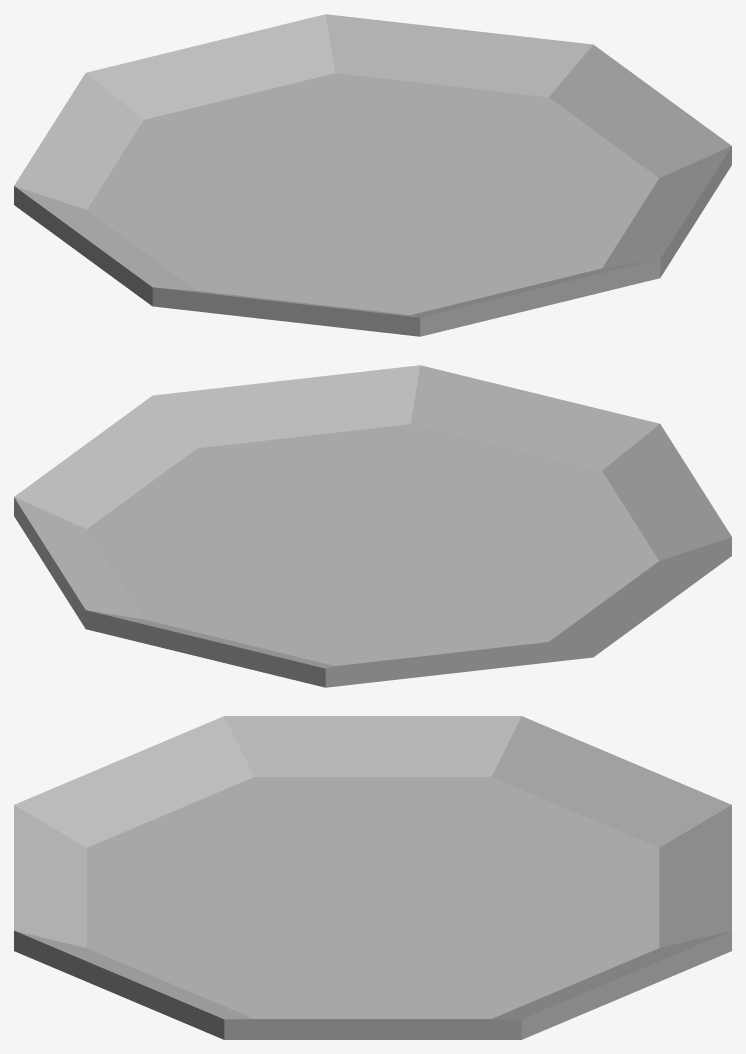
Rendered from Plate_02.fbx.
3 views of the same model, one above another, from view 1: azimuth 30°, elevation 25°; view 2: azimuth 150°, elevation 25°; view 3: azimuth 270°, elevation 25° (orthographic). The views are drawn at different scales.
Visible parts, largest first — view 1: Plate_02; view 2: Plate_02; view 3: Plate_02.
Part boxes in pixels (x1,y1,x2,y2): Plate_02: (14,14,731,336); Plate_02: (14,365,731,687); Plate_02: (14,716,731,1039).
Bounding box in the file's own units: 24.17 × 1.89 × 24.17.
